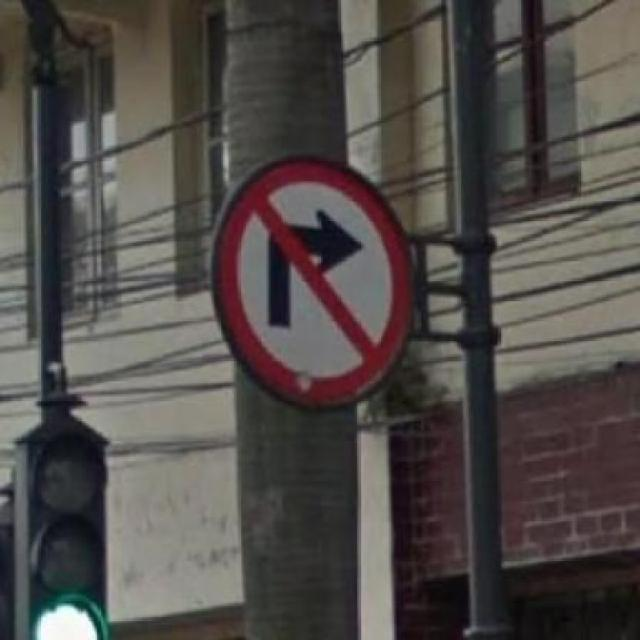right turn prohibited: (209, 152, 421, 418)
